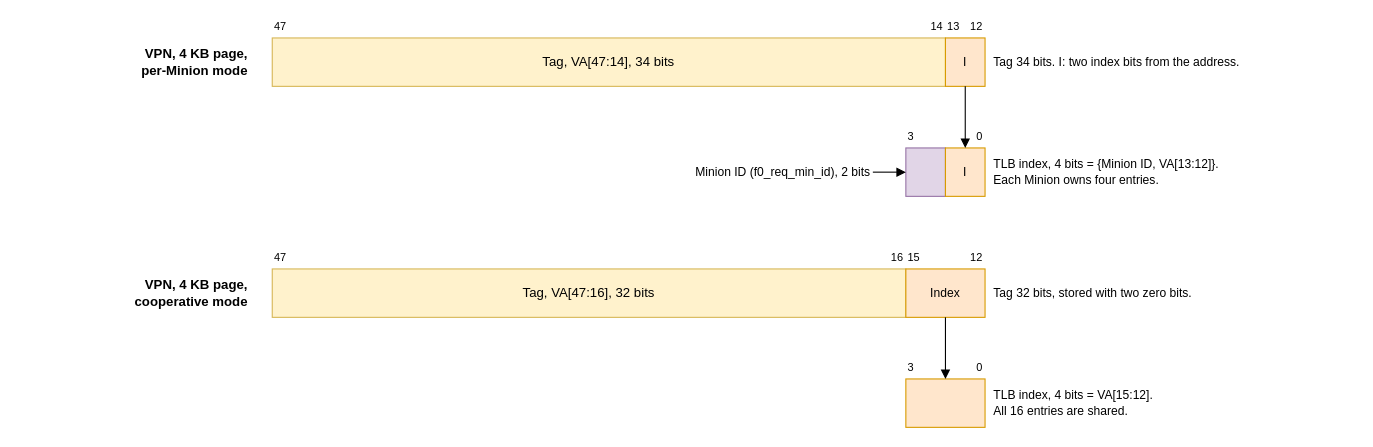
The diagram is 1373 pixels wide and 447 high, and some of its shapes have lost their labels. Here are the shapes that lost their labels. From the top down, the centre of each, then its label:
At (x=925, y=171): "ID".
At (x=945, y=402): "VA[15:12]".
